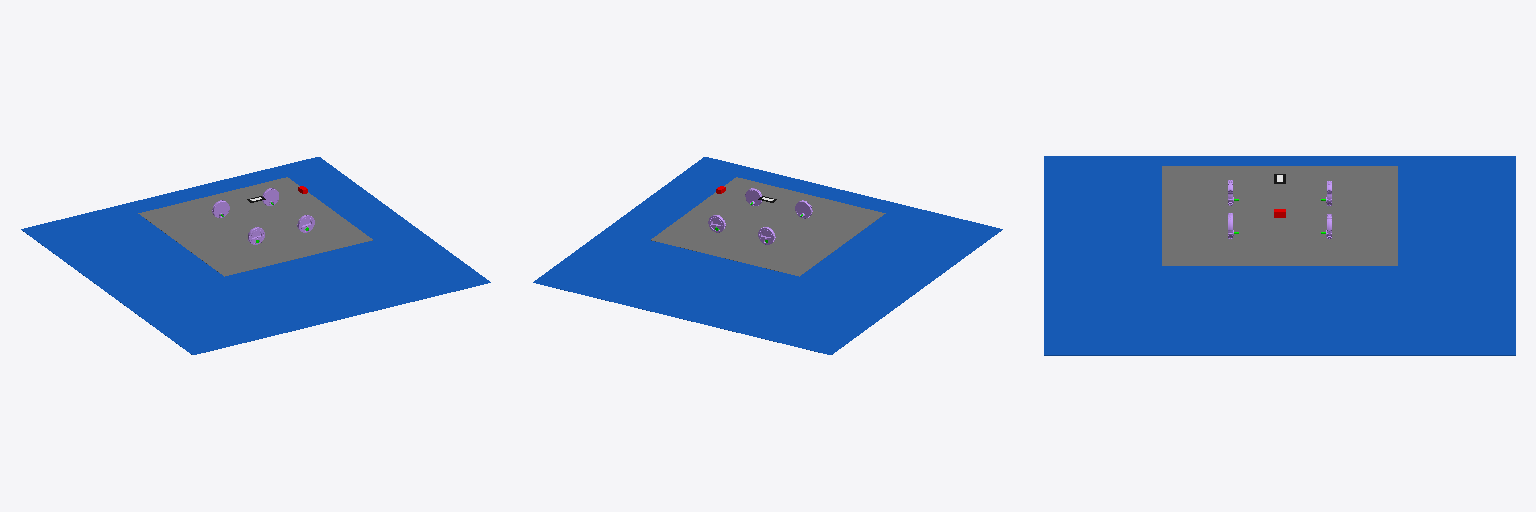
The robot description file, URDF, robot "ASSY":
<?xml version="1.0" encoding="utf-8"?>
<robot name="ASSY">

  <!-- ======================================================================= -->
  <!-- 1. ROOT LINKS & GROUND PLANES                                           -->
  <!-- ======================================================================= -->

  <link name="ellipsoid_surface">
    <visual>
      <origin xyz="0 0 -0.0005" rpy="0 0 0" />
      <geometry>
        <box size="3.0 3.0 0.001" />
      </geometry>
      <material name="ellipsoid_material">
        <color rgba="0.1 0.4 0.8 0.5" />
      </material>
    </visual>
    <collision>
      <origin xyz="0 0 -0.0005" rpy="0 0 0" />
      <geometry>
        <box size="3.0 3.0 0.001" />
      </geometry>
    </collision>
  </link>

  <joint name="ellipsoid_surface_joint" type="fixed">
    <origin xyz="0 0 0.28" rpy="0 0 0" />
    <parent link="ellipsoid_surface" />
    <child link="ground_link" />
  </joint>

  <link name="ground_link">
    <visual>
      <origin xyz="0 0 -0.0005" rpy="0 0 0" />
      <geometry>
        <box size="1.5 1.5 0.001" />
      </geometry>
      <material name="ground_material">
        <color rgba="0.5 0.5 0.5 0.6" />
      </material>
    </visual>
    <collision>
      <origin xyz="0 0 -0.0005" rpy="0 0 0" />
      <geometry>
        <box size="1.5 1.5 0.001" />
      </geometry>
    </collision>
  </link>

  <joint name="ground_joint" type="fixed">
    <origin xyz="0.1736 1.3300 0.141158" rpy="0 0 0" />
    <parent link="ground_link" />
    <child link="base_link" />
  </joint>

  <!-- ======================================================================= -->
  <!-- 2. ROBOT BODY & MARKERS ON BASE_LINK                                    -->
  <!-- ======================================================================= -->

  <link name="base_link">
    <inertial>
      <origin
        xyz="-0.173677988702651 -1.33001645405301 0.127094960664252"
        rpy="0 0 0" />
      <mass
        value="4.36726752622247" />
      <inertia
        ixx="0.120130237589"
        ixy="2.47975488953441E-06"
        ixz="-3.27227207123414E-05"
        iyy="0.191286662671252"
        iyz="2.68102670008558E-10"
        izz="0.301245720968886" />
    </inertial>
    <visual>
      <origin
        xyz="0 0 0"
        rpy="0 0 0" />
      <geometry>
        <mesh
          filename="../meshes/base_link.STL" />
      </geometry>
      <material
        name="base_mat">
        <color
          rgba="0.894117647058823 0.894117647058823 0.894117647058823 1" />
      </material>
    </visual>
    <collision>
      <origin
        xyz="0 0 0"
        rpy="0 0 0" />
      <geometry>
        <mesh
          filename="../meshes/base_link.STL" />
      </geometry>
    </collision>
  </link>

  <!-- 전면부 메쉬 외경에 위치 맞춤 마커 -->
  <link name="front_marker_link">
    <visual>
      <origin xyz="0 0 0" rpy="0 0 0" />
      <geometry>
        <box size="0.05 0.08 0.04" />
      </geometry>
      <material name="red_marker_mat">
        <color rgba="1.0 0.0 0.0 1.0" />
      </material>
    </visual>
  </link>

  <joint name="front_marker_joint" type="fixed">
    <origin xyz="0.30 -1.33 0.10" rpy="0 0 0" />
    <parent link="base_link" />
    <child link="front_marker_link" />
  </joint>

  <!-- 식별 텍스트 플레이트 -->
  <link name="text_ver1_link">
    <visual>
      <origin xyz="0 0 0" rpy="0 0 0" />
      <geometry>
        <box size="0.15 0.08 0.002" />
      </geometry>
      <material name="plate_mat">
        <color rgba="0.1 0.1 0.1 1.0" />
      </material>
    </visual>
    <visual>
      <origin xyz="0 0 0.002" rpy="0 0 0" />
      <geometry>
        <box size="0.10 0.04 0.002" />
      </geometry>
      <material name="text_white_mat">
        <color rgba="1.0 1.0 1.0 1.0" />
      </material>
    </visual>
  </link>

  <joint name="text_ver1_joint" type="fixed">
    <origin xyz="-0.17 -1.33 0.12" rpy="0 0 0" />
    <parent link="base_link" />
    <child link="text_ver1_link" />
  </joint>

  <!-- ======================================================================= -->
  <!-- 3. REAR LEFT DRIVE MODULE (RL)                                          -->
  <!-- ======================================================================= -->

  <link name="wheel_rl">
    <inertial>
      <origin
        xyz="0.000505290609487841 0.0115730269592083 0.00262595144799707"
        rpy="0 0 0" />
      <mass
        value="0.42269955285096" />
      <inertia
        ixx="0.000815542921585711"
        ixy="6.60524034039688E-07"
        ixz="3.86285448095543E-06"
        iyy="0.00159042388409674"
        iyz="3.46784877596443E-06"
        izz="0.000834325692195126" />
    </inertial>
    <visual>
      <origin
        xyz="0 0 0"
        rpy="0 0 0" />
      <geometry>
        <mesh
          filename="../meshes/rear_left_wheel_link.STL" />
      </geometry>
      <material
        name="wheel_mat">
        <color
          rgba="0.796078431372549 0.623529411764706 1 1" />
      </material>
    </visual>
    <collision>
      <origin
        xyz="0 0 0"
        rpy="0 0 0" />
      <geometry>
        <mesh
          filename="../meshes/rear_left_wheel_link.STL" />
      </geometry>
    </collision>
  </link>

  <joint name="wheel_rl_joint" type="continuous">
    <origin
      xyz="-0.34344 -1.0048 -0.061158"
      rpy="3.1416 0.27703 0" />
    <parent
      link="base_link" />
    <child
      link="wheel_rl" />
    <axis
      xyz="0 -1 0" />
    <mimic
      joint="pinion_rl_joint"
      multiplier="-1"
      offset="0" />
  </joint>

  <link name="pinion_rl">
    <inertial>
      <origin
        xyz="5.68499051833982E-07 7.63716316805052E-05 -0.014980570321381"
        rpy="0 0 0" />
      <mass
        value="0.011032733259644" />
      <inertia
        ixx="4.80829060566522E-06"
        ixy="-3.01977896111619E-11"
        ixz="1.6476444777162E-10"
        iyy="4.8095261776222E-06"
        iyz="-3.00538459560686E-08"
        izz="7.0424678545279E-07" />
    </inertial>
    <visual>
      <origin
        xyz="0 0 0"
        rpy="0 0 0" />
      <geometry>
        <mesh
          filename="../meshes/rear_left_pinion_link.STL" />
      </geometry>
      <material
        name="pinion_mat">
        <color
          rgba="0 1 0 1" />
      </material>
    </visual>
    <collision>
      <origin
        xyz="0 0 0"
        rpy="0 0 0" />
      <geometry>
        <mesh
          filename="../meshes/rear_left_pinion_link.STL" />
      </geometry>
    </collision>
  </link>

  <joint name="pinion_rl_joint" type="continuous">
    <origin
      xyz="-0.34769 -1.0078 -0.10897"
      rpy="1.5708 0.059958 -3.1416" />
    <parent
      link="base_link" />
    <child
      link="pinion_rl" />
    <axis
      xyz="0 1 0" />
  </joint>

  <!-- ======================================================================= -->
  <!-- 4. REAR RIGHT DRIVE MODULE (RR)                                         -->
  <!-- ======================================================================= -->

  <link name="wheel_rr">
    <inertial>
      <origin
        xyz="0.000505290609487785 0.0115730269592078 0.00262595144799672"
        rpy="0 0 0" />
      <mass
        value="0.422699552850961" />
      <inertia
        ixx="0.00081554292158571"
        ixy="6.60524034037478E-07"
        ixz="3.86285448095634E-06"
        iyy="0.00159042388409674"
        iyz="3.4678487759639E-06"
        izz="0.000834325692195128" />
    </inertial>
    <visual>
      <origin
        xyz="0 0 0"
        rpy="0 0 0" />
      <geometry>
        <mesh
          filename="../meshes/rear_right_wheel_link.STL" />
      </geometry>
      <material name="wheel_mat" />
    </visual>
    <collision>
      <origin
        xyz="0 0 0"
        rpy="0 0 0" />
      <geometry>
        <mesh
          filename="../meshes/rear_right_wheel_link.STL" />
      </geometry>
    </collision>
  </link>

  <joint name="wheel_rr_joint" type="continuous">
    <origin
      xyz="-0.35193 -1.6553 -0.061158"
      rpy="3.1416 0.27703 3.1416" />
    <parent
      link="base_link" />
    <child
      link="wheel_rr" />
    <axis
      xyz="0 1 0" />
    <mimic
      joint="pinion_rr_joint"
      multiplier="-1"
      offset="0" />
  </joint>

  <link name="pinion_rr">
    <inertial>
      <origin
        xyz="5.68499051833982E-07 7.63716316804774E-05 -0.0149805703213808"
        rpy="0 0 0" />
      <mass
        value="0.011032733259644" />
      <inertia
        ixx="4.80829060566523E-06"
        ixy="-3.01977896111354E-11"
        ixz="1.6476444777162E-10"
        iyy="4.80952617762221E-06"
        iyz="-3.0053845956065E-08"
        izz="7.04246785452792E-07" />
    </inertial>
    <visual>
      <origin
        xyz="0 0 0"
        rpy="0 0 0" />
      <geometry>
        <mesh
          filename="../meshes/rear_right_pinion_link.STL" />
      </geometry>
      <material name="pinion_mat" />
    </visual>
    <collision>
      <origin
        xyz="0 0 0"
        rpy="0 0 0" />
      <geometry>
        <mesh
          filename="../meshes/rear_right_pinion_link.STL" />
      </geometry>
    </collision>
  </link>

  <joint name="pinion_rr_joint" type="continuous">
    <origin
      xyz="-0.34769 -1.6523 -0.10897"
      rpy="1.5708 0.059958 0" />
    <parent
      link="base_link" />
    <child
      link="pinion_rr" />
    <axis
      xyz="0 1 0" />
  </joint>

  <!-- ======================================================================= -->
  <!-- 5. SUSPENSION SYSTEM (SWING LINK)                                       -->
  <!-- ======================================================================= -->

  <link name="swing_link">
    <inertial>
      <origin
        xyz="-0.0273355916599196 -0.0287903676176555 2.89047470403148E-08"
        rpy="0 0 0" />
      <mass
        value="1.44344385546095" />
      <inertia
        ixx="0.00529337280544807"
        ixy="-3.64864364493946E-06"
        ixz="-2.47940932052328E-06"
        iyy="0.00598687173593352"
        iyz="5.36206178033747E-10"
        izz="0.00290322324927834" />
    </inertial>
    <visual>
      <origin
        xyz="0 0 0"
        rpy="0 0 0" />
      <geometry>
        <mesh
          filename="../meshes/swing_Link.STL" />
      </geometry>
      <material name="base_mat" />
    </visual>
    <collision>
      <origin
        xyz="0 0 0"
        rpy="0 0 0" />
      <geometry>
        <mesh
          filename="../meshes/swing_Link.STL" />
      </geometry>
    </collision>
  </link>

  <joint name="swing_joint" type="continuous">
    <origin
      xyz="0.15231 -1.33 0.02403"
      rpy="1.5708 0 0" />
    <parent
      link="base_link" />
    <child
      link="swing_link" />
    <axis
      xyz="0 0 0" />
    <limit
      lower="0"
      upper="0"
      effort="0"
      velocity="0" />
  </joint>

  <!-- ======================================================================= -->
  <!-- 6. FRONT LEFT DRIVE MODULE (FL)                                         -->
  <!-- ======================================================================= -->

  <link name="wheel_fl">
    <inertial>
      <origin
        xyz="0.000505290609487868 0.011573026959208 0.00262595144799711"
        rpy="0 0 0" />
      <mass
        value="0.422699552850964" />
      <inertia
        ixx="0.000815542921585712"
        ixy="6.60524034037467E-07"
        ixz="3.86285448095665E-06"
        iyy="0.00159042388409675"
        iyz="3.46784877596432E-06"
        izz="0.000834325692195135" />
    </inertial>
    <visual>
      <origin
        xyz="0 0 0"
        rpy="0 0 0" />
      <geometry>
        <mesh
          filename="../meshes/front_left_wheel_link.STL" />
      </geometry>
      <material name="wheel_mat" />
    </visual>
    <collision>
      <origin
        xyz="0 0 0"
        rpy="0 0 0" />
      <geometry>
        <mesh
          filename="../meshes/front_left_wheel_link.STL" />
      </geometry>
    </collision>
  </link>

  <joint name="wheel_fl_joint" type="continuous">
    <origin
      xyz="0.0042466 -0.085188 -0.32525"
      rpy="1.5708 0 -0.27703" />
    <parent
      link="swing_link" />
    <child
      link="wheel_fl" />
    <axis
      xyz="0 -1 0" />
    <mimic
      joint="pinion_fl_joint"
      multiplier="-1"
      offset="0" />
  </joint>

  <link name="pinion_fl">
    <inertial>
      <origin
        xyz="5.68499051861737E-07 7.63716316805052E-05 -0.0149805703213808"
        rpy="0 0 0" />
      <mass
        value="0.0110327332596441" />
      <inertia
        ixx="4.80829060566525E-06"
        ixy="-3.01977896109501E-11"
        ixz="1.6476444779217E-10"
        iyy="4.80952617762223E-06"
        iyz="-3.00538459560686E-08"
        izz="7.04246785452799E-07" />
    </inertial>
    <visual>
      <origin
        xyz="0 0 0"
        rpy="0 0 0" />
      <geometry>
        <mesh
          filename="../meshes/front_left_pinion_link.STL" />
      </geometry>
      <material name="pinion_mat" />
    </visual>
    <collision>
      <origin
        xyz="0 0 0"
        rpy="0 0 0" />
      <geometry>
        <mesh
          filename="../meshes/front_left_pinion_link.STL" />
      </geometry>
    </collision>
  </link>

  <joint name="pinion_fl_joint" type="continuous">
    <origin
      xyz="0 -0.133 -0.32225"
      rpy="3.1416 0 -3.0816" />
    <parent
      link="swing_link" />
    <child
      link="pinion_fl" />
    <axis
      xyz="0 1 0" />
  </joint>

  <!-- ======================================================================= -->
  <!-- 7. FRONT RIGHT DRIVE MODULE (FR)                                        -->
  <!-- ======================================================================= -->

  <link name="wheel_fr">
    <inertial>
      <origin
        xyz="0.000505290609487896 0.011573026959208 0.00262595144799699"
        rpy="0 0 0" />
      <mass
        value="0.422699552850966" />
      <inertia
        ixx="0.000815542921585718"
        ixy="6.60524034035726E-07"
        ixz="3.86285448095394E-06"
        iyy="0.00159042388409675"
        iyz="3.46784877596481E-06"
        izz="0.000834325692195138" />
    </inertial>
    <visual>
      <origin
        xyz="0 0 0"
        rpy="0 0 0" />
      <geometry>
        <mesh
          filename="../meshes/front_right_wheel_link.STL" />
      </geometry>
      <material name="wheel_mat" />
    </visual>
    <collision>
      <origin
        xyz="0 0 0"
        rpy="0 0 0" />
      <geometry>
        <mesh
          filename="../meshes/front_right_wheel_link.STL" />
      </geometry>
    </collision>
  </link>

  <joint name="wheel_fr_joint" type="continuous">
    <origin
      xyz="-0.0042466 -0.085188 0.32525"
      rpy="-1.5708 0 -2.8646" />
    <parent
      link="swing_link" />
    <child
      link="wheel_fr" />
    <axis
      xyz="0 1 0" />
    <mimic
      joint="pinion_fr_joint"
      multiplier="-1"
      offset="0" />
  </joint>

  <link name="pinion_fr">
    <inertial>
      <origin
        xyz="5.68499051889493E-07 7.63716316805052E-05 -0.0149805703213812"
        rpy="0 0 0" />
      <mass
        value="0.011032733259644" />
      <inertia
        ixx="4.80829060566523E-06"
        ixy="-3.01977896117177E-11"
        ixz="1.64764447804069E-10"
        iyy="4.80952617762221E-06"
        iyz="-3.00538459560664E-08"
        izz="7.04246785452794E-07" />
    </inertial>
    <visual>
      <origin
        xyz="0 0 0"
        rpy="0 0 0" />
      <geometry>
        <mesh
          filename="../meshes/front_right_pinion_link.STL" />
      </geometry>
      <material name="pinion_mat" />
    </visual>
    <collision>
      <origin
        xyz="0 0 0"
        rpy="0 0 0" />
      <geometry>
        <mesh
          filename="../meshes/front_right_pinion_link.STL" />
      </geometry>
    </collision>
  </link>

  <joint name="pinion_fr_joint" type="continuous">
    <origin
      xyz="0 -0.133 0.32225"
      rpy="0 0 -0.059958" />
    <parent
      link="swing_link" />
    <child
      link="pinion_fr" />
    <axis
      xyz="0 1 0" />
  </joint>

</robot>

--- Facts derived from the render (not from the file) ---
3 views of the same robot in one strip: view 1: azimuth 30°, elevation 25°; view 2: azimuth 150°, elevation 25°; view 3: azimuth 270°, elevation 25° (orthographic).
Robot: ASSY — 14 links, 13 joints (9 continuous, 4 fixed); root link ellipsoid_surface; default pose: every joint at zero.
Links seen in each view (by area): view 1: ellipsoid_surface, ground_link; view 2: ellipsoid_surface, ground_link; view 3: ellipsoid_surface, ground_link.
Link boxes in pixels (left/top/right/bottom): ellipsoid_surface: left=21, top=157, right=490, bottom=354; ground_link: left=138, top=177, right=372, bottom=276; ellipsoid_surface: left=533, top=157, right=1002, bottom=354; ground_link: left=651, top=177, right=885, bottom=276; ellipsoid_surface: left=1044, top=156, right=1515, bottom=355; ground_link: left=1162, top=166, right=1397, bottom=265.
Bounding box of the posed robot: 3 × 3 × 0.5452 m (x, y, z).
Meshes: 10 distinct files referenced, 8 mesh visuals loaded (8 binary STL); not drawn: 2 (reference not matched to a file when rendering).
